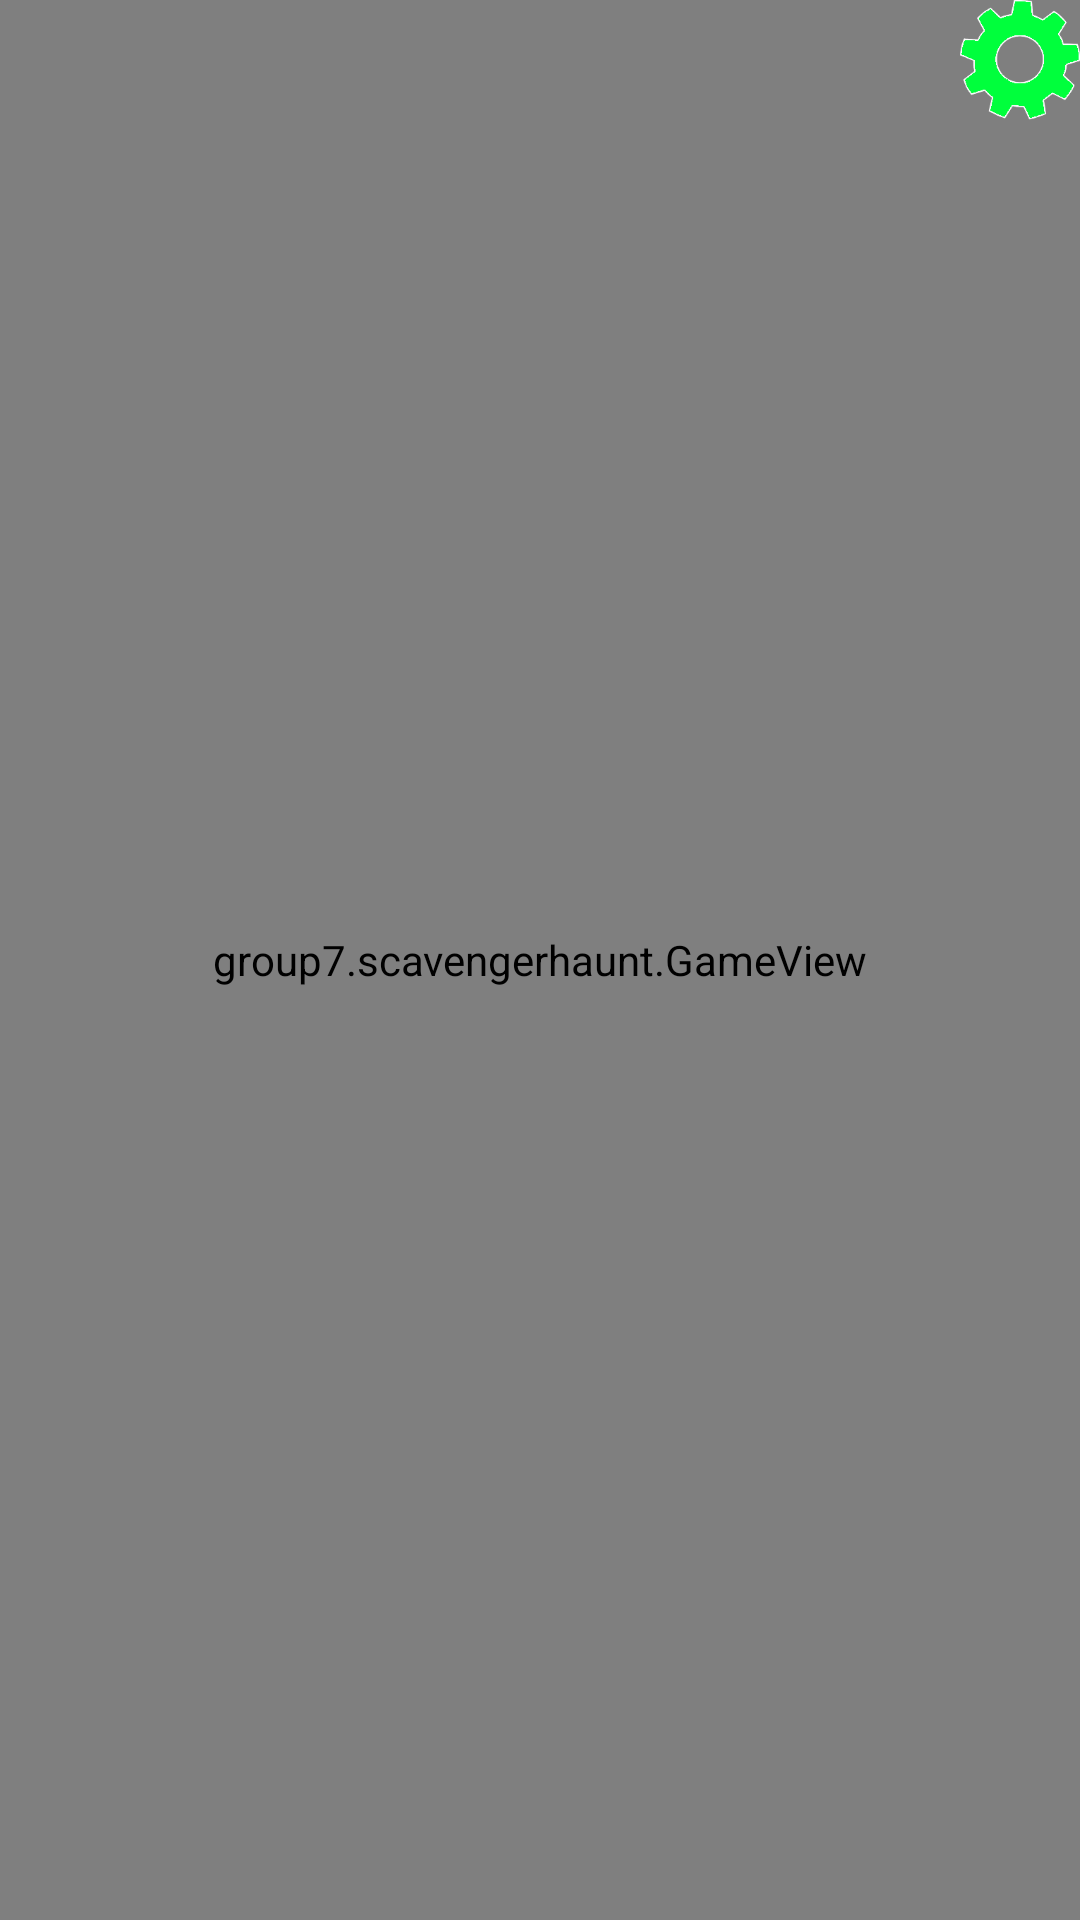

Where to tap for icons on this 1080px x 1920px app screen, as (x,y):
settings gear: (1020,60)
